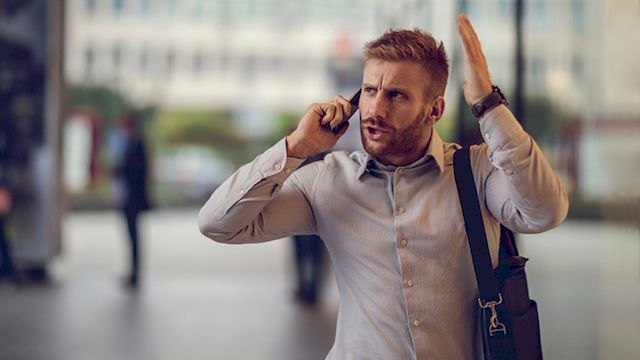phone: (329, 82, 362, 131)
talk: (296, 75, 419, 160)
